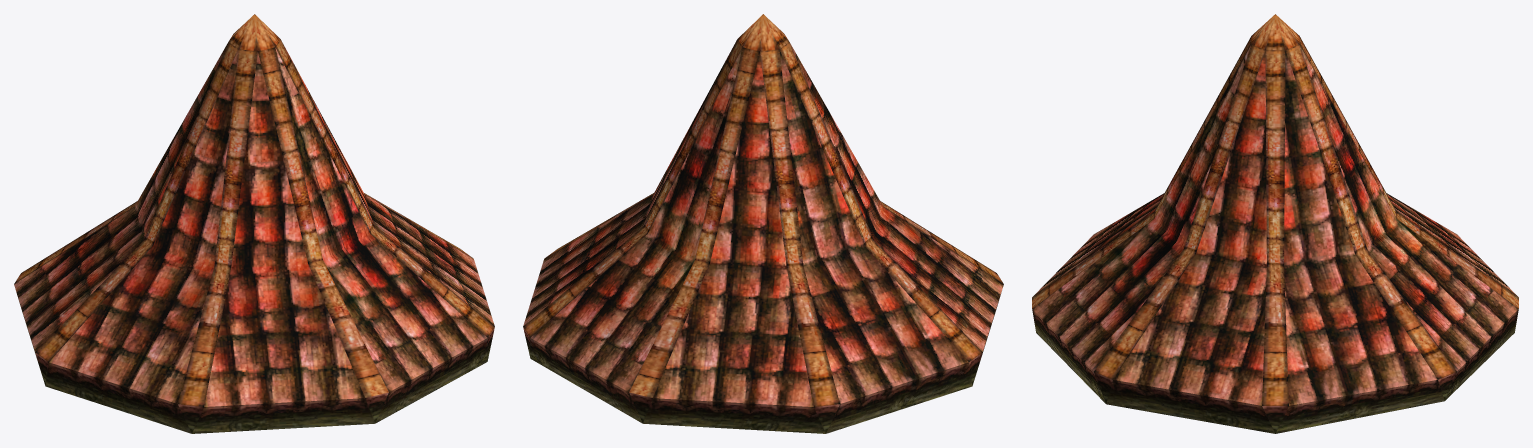
3 views of the same model, side by side, from view 1: azimuth 30°, elevation 25°; view 2: azimuth 150°, elevation 25°; view 3: azimuth 270°, elevation 25° (orthographic).
Visible parts, largest first — view 1: cc44; view 2: cc44; view 3: cc44.
Part boxes in pixels (bbox=[...]): cc44: bbox=[14, 14, 494, 433]; cc44: bbox=[523, 14, 1003, 433]; cc44: bbox=[1032, 14, 1518, 433].
Size of the model in its own units: 4.54 by 3.28 by 4.54.
Materials: 4 (4 with a texture image).
